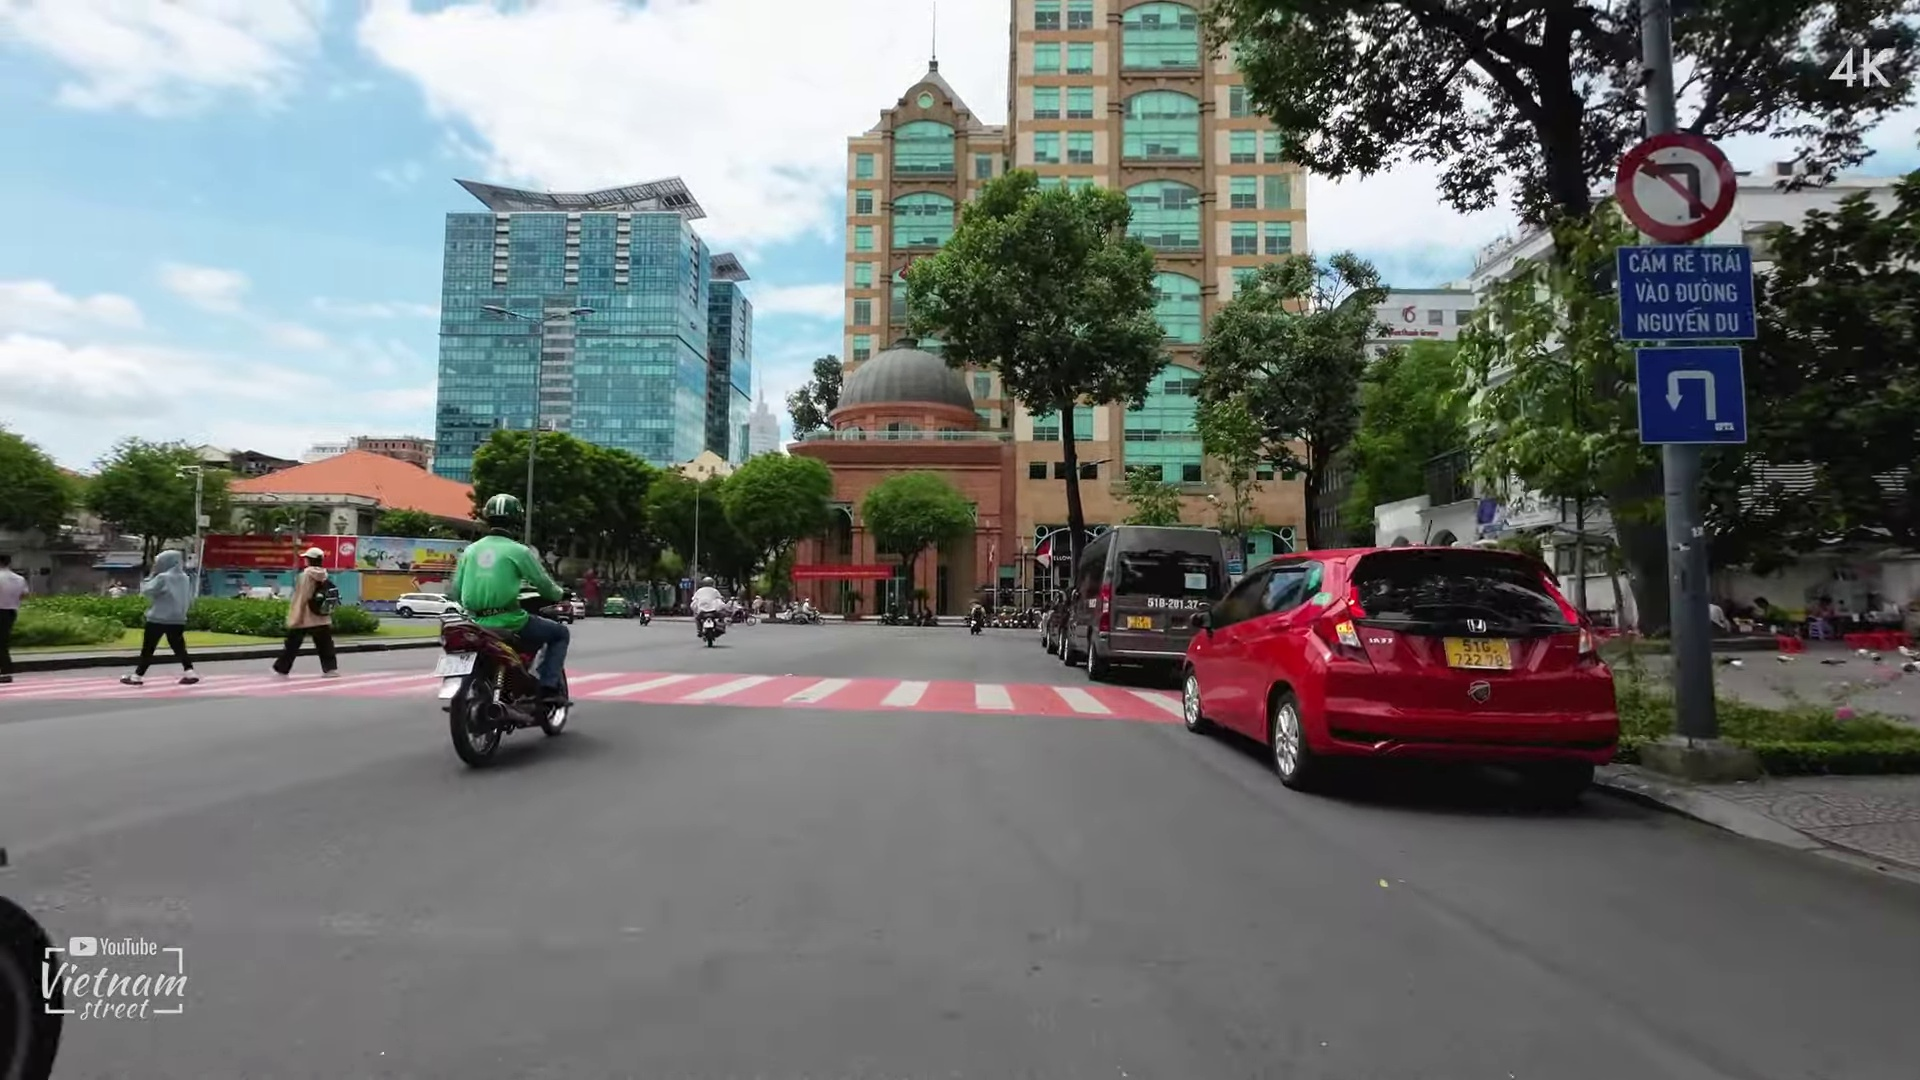cam_re_trai: (1607, 125, 1742, 249)
